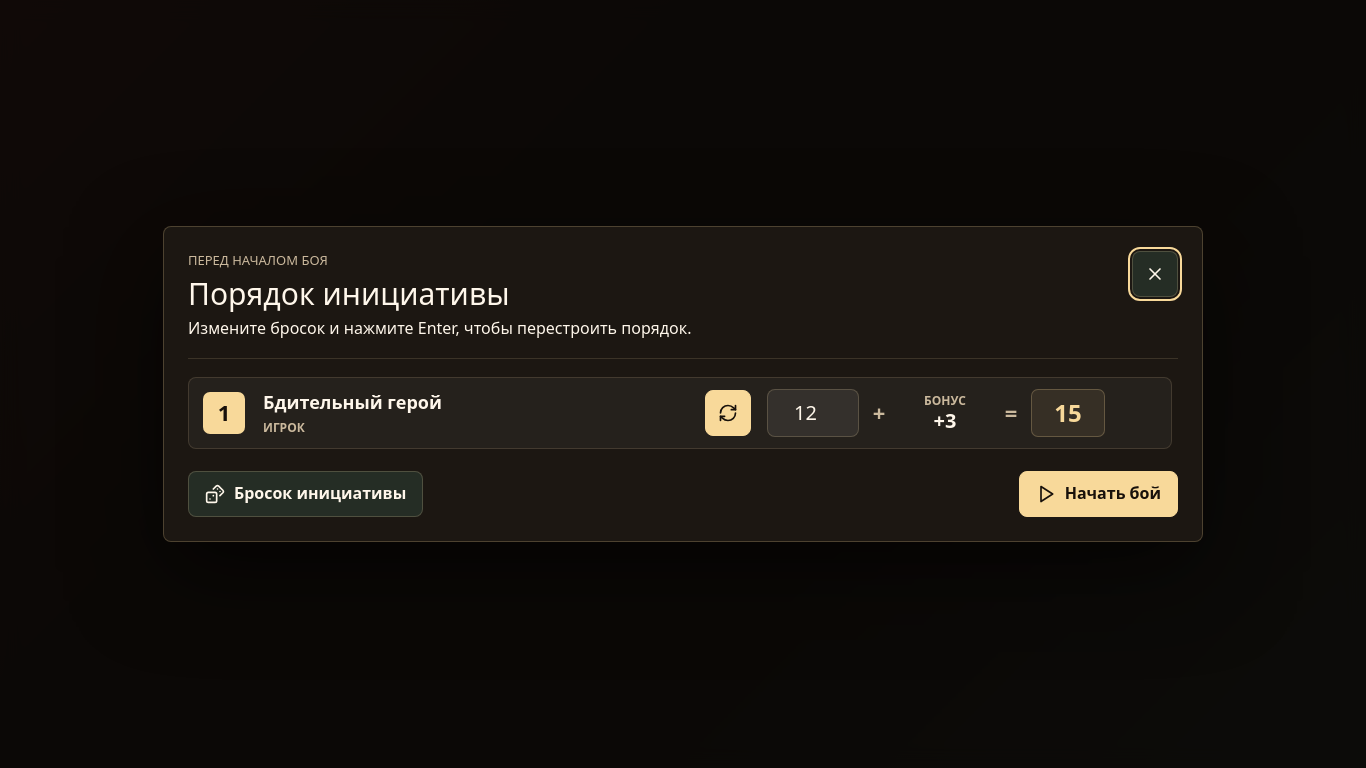
InitiativeSetupModal › показывает понятное уведомление, когда обмениваться не с кем
What coordinates should you click on to do the following:
click the button named "Бдительный герой: обменяться инициативой"
I would click on:
 (728, 413)
Its box is left=705, top=390, right=751, bottom=436.
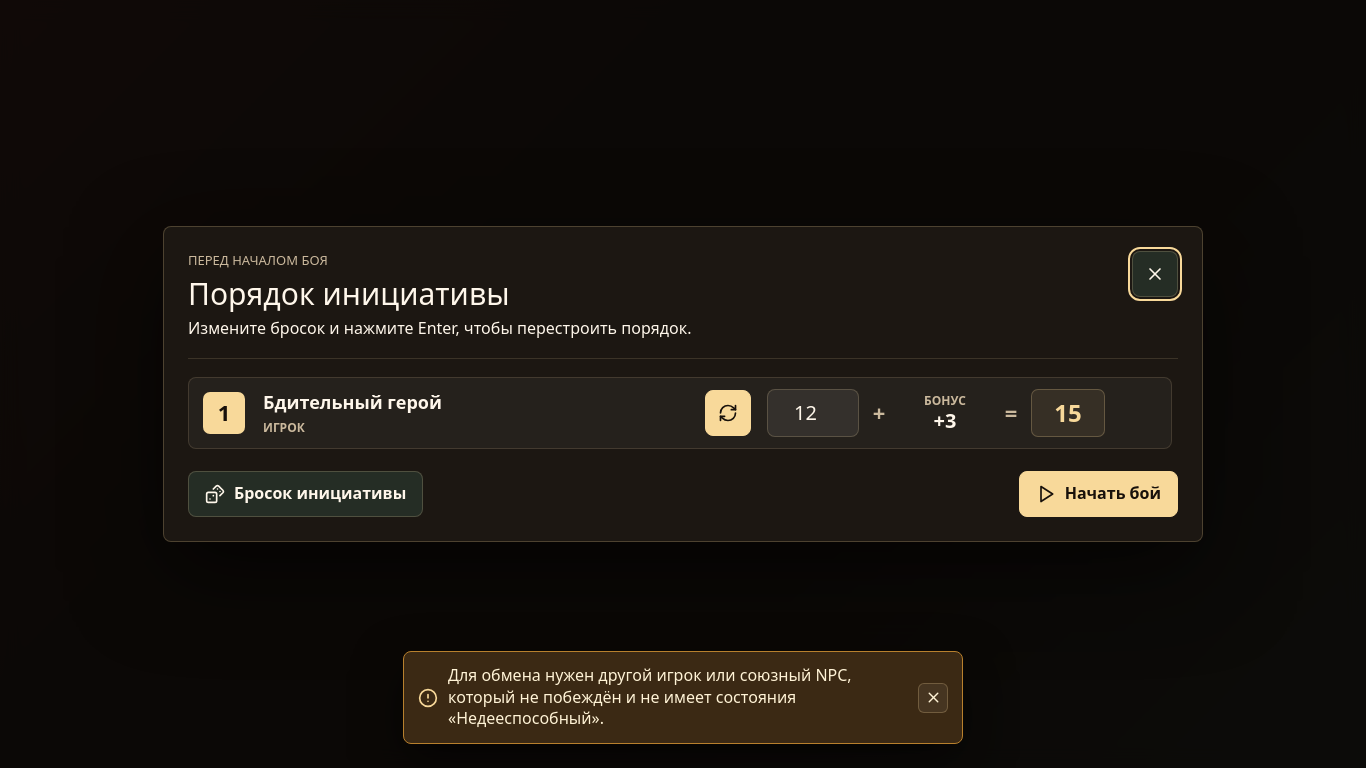
expect the message shows "Для обмена нужен другой игрок или союзный NPC": met, box left=448, top=664, right=852, bottom=729
